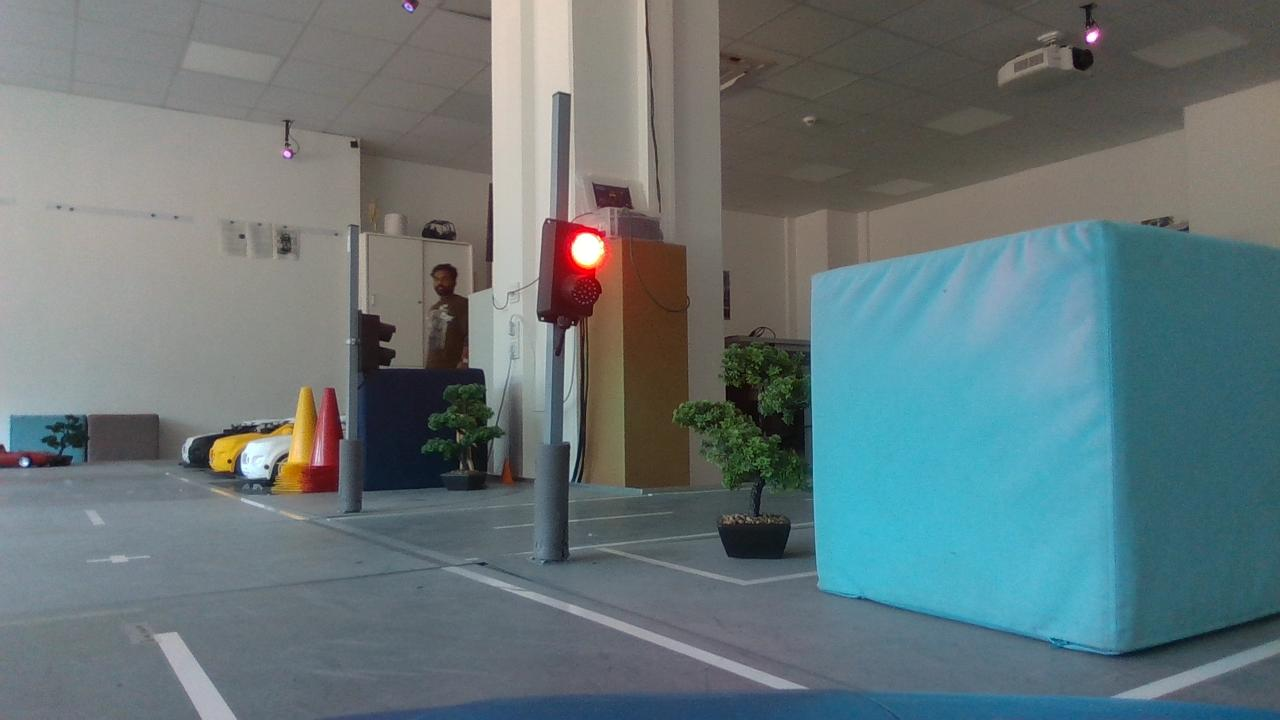traffic_light_red: (527, 193, 616, 331)
